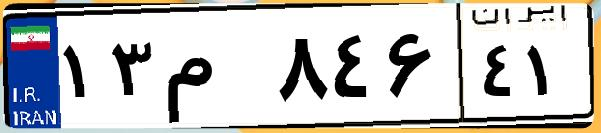1: (57, 26, 110, 100), (525, 38, 570, 115)
3: (110, 28, 158, 98)
4: (330, 28, 385, 110), (475, 38, 525, 113)
6: (385, 28, 445, 110)
8: (270, 28, 330, 110)
م: (158, 20, 270, 120)
